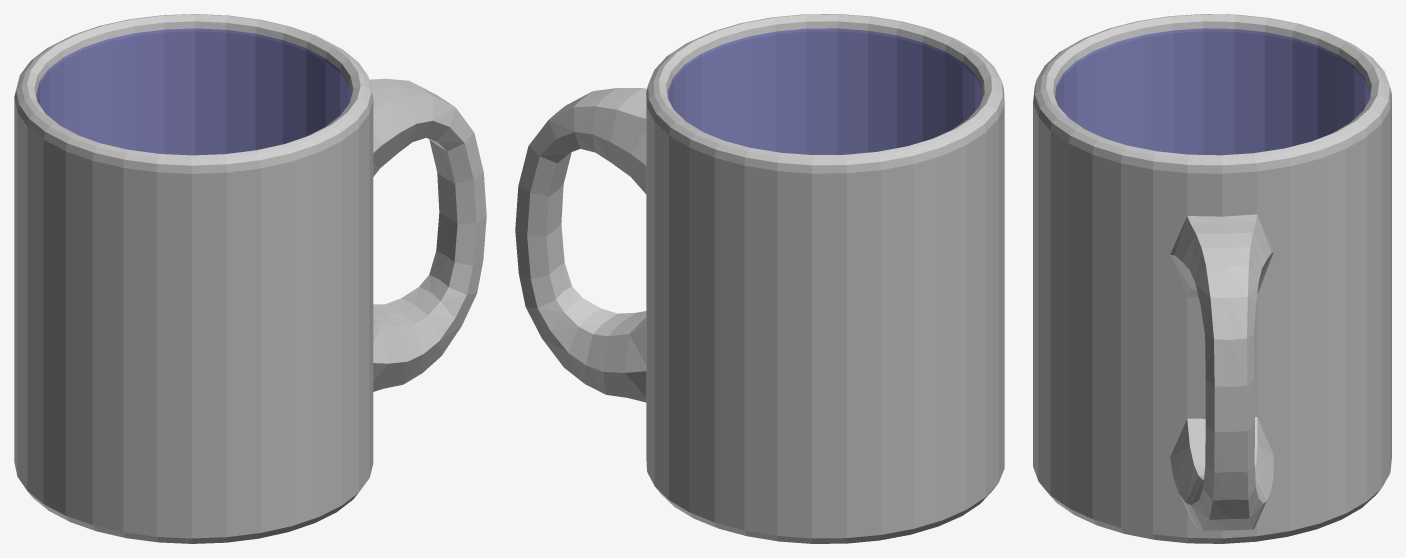
Rendered from cup.glb.
The picture shows the model from 3 angles, left to right: view 1: azimuth 30°, elevation 25°; view 2: azimuth 150°, elevation 25°; view 3: azimuth 270°, elevation 25°; orthographic projection.
Visible parts, largest first — view 1: Material_001-material, Material-material; view 2: Material_001-material, Material-material; view 3: Material_001-material, Material-material.
Boxes of the visible parts, x1,y1,x2,y2 form: Material_001-material: [14, 14, 486, 543]; Material-material: [36, 28, 351, 155]; Material_001-material: [515, 14, 1004, 543]; Material-material: [668, 28, 982, 154]; Material_001-material: [1033, 14, 1391, 543]; Material-material: [1055, 28, 1369, 155].
Bounding box in the file's own units: 2.99 × 2.48 × 2.07.
